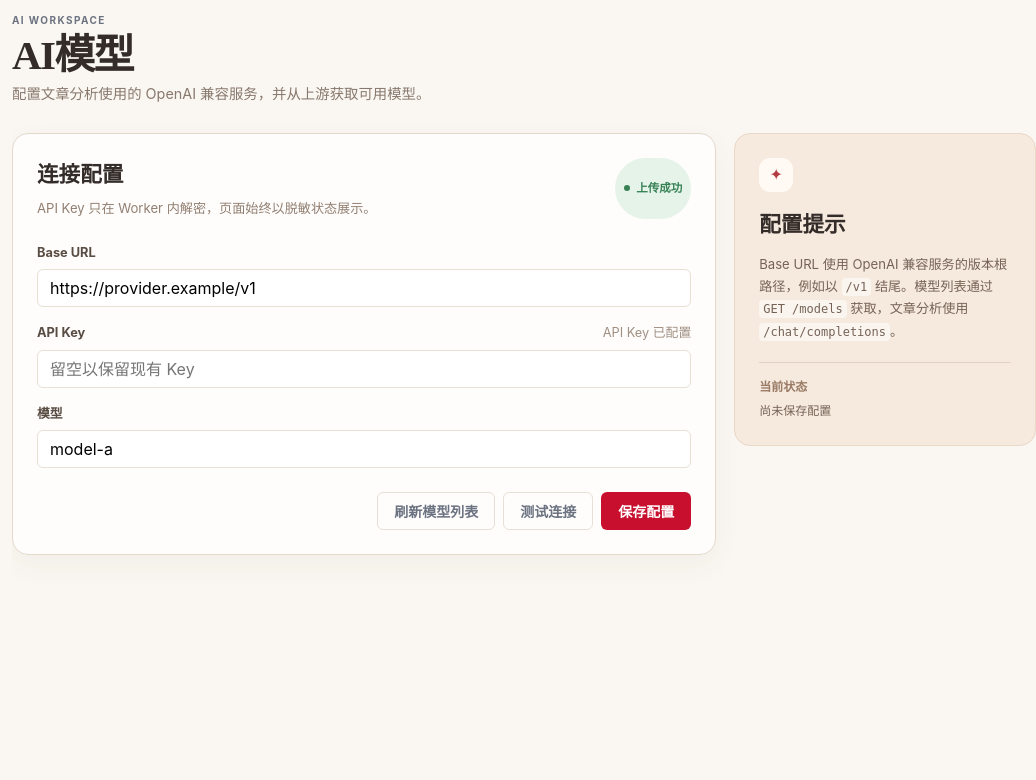
Test: AiModelAdmin › refreshes model choices and tests the selected model
Expected: the field showing "model-a" is shown, [37, 430, 691, 468]
Click the button "刷新模型列表" at coordinates (436, 511), box [377, 492, 495, 530]
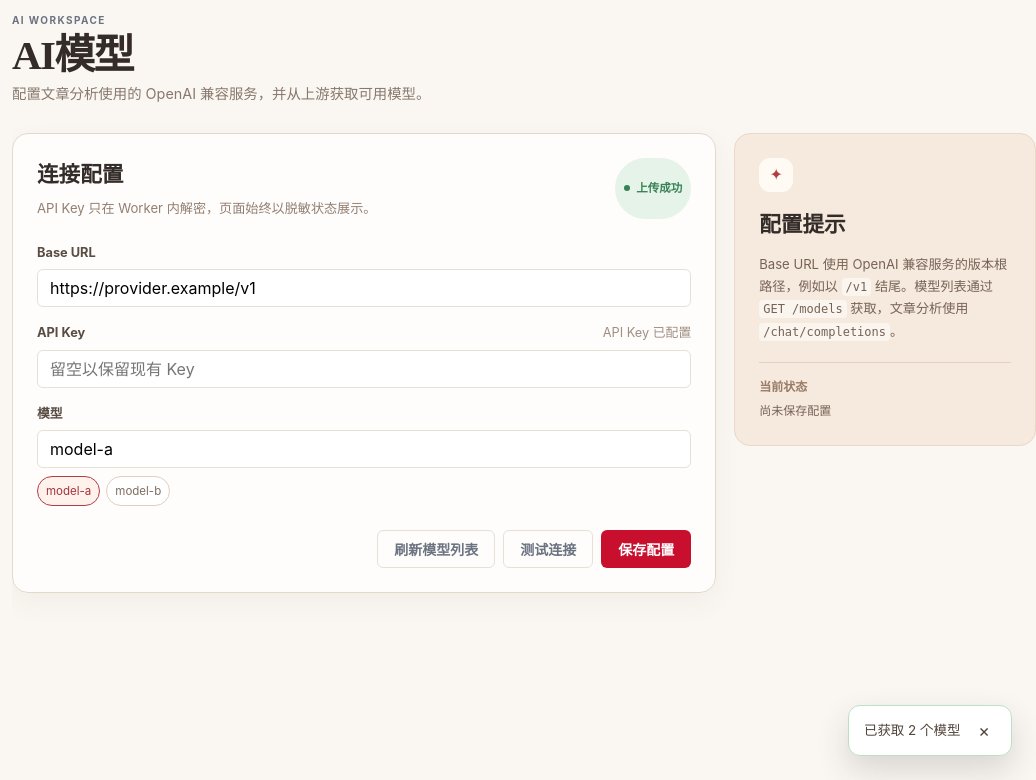
Expected: the button "model-b" is shown, [106, 476, 170, 506]
Replace the text in the field labelled "模型" with "model-b" at coordinates (364, 449), box [37, 430, 691, 468]
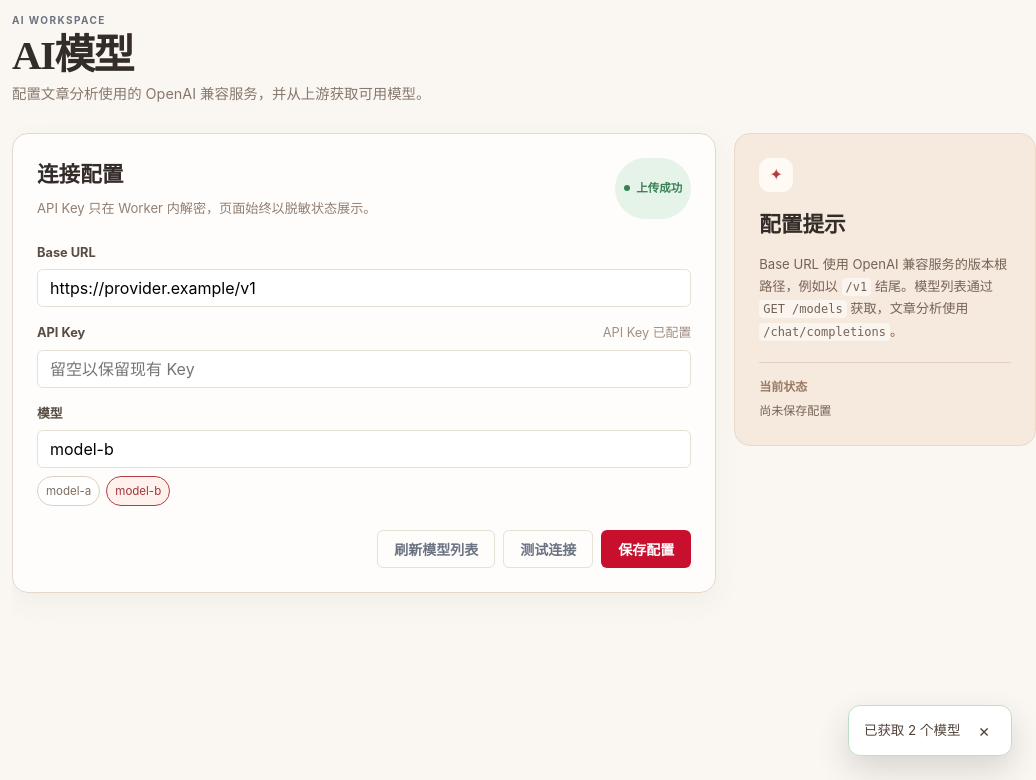
Click the button "测试连接" at coordinates (548, 550), box [503, 530, 593, 568]
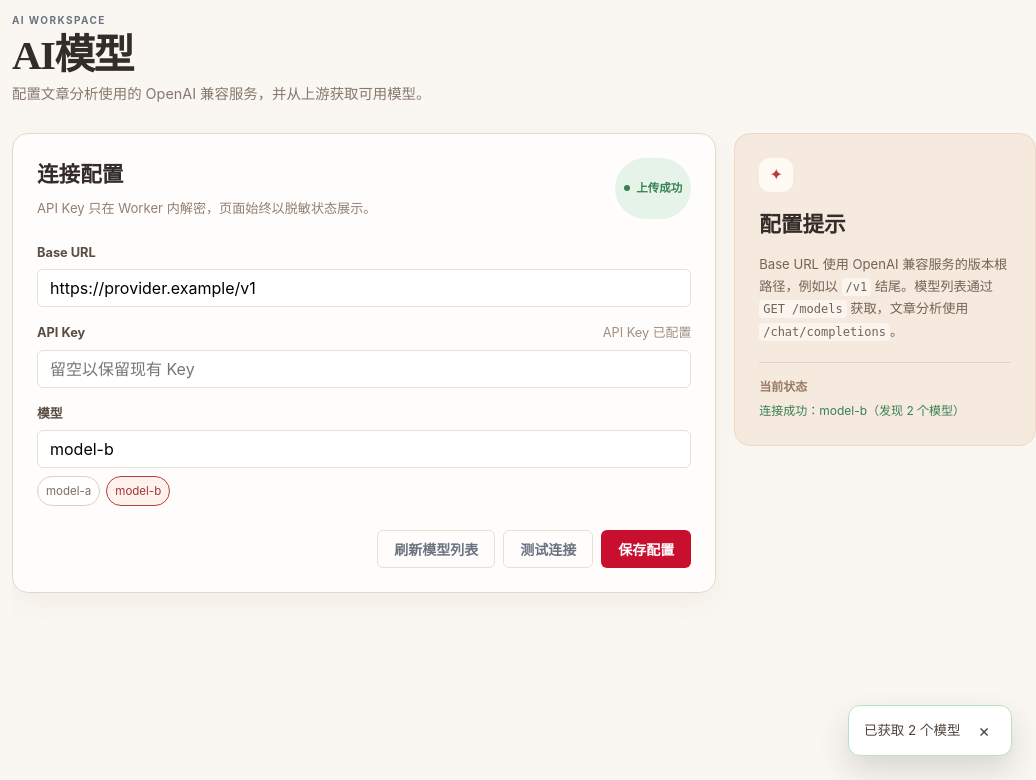
Expected: the text "连接成功：model-b（发现 2 个模型）" is shown, [759, 403, 965, 418]
